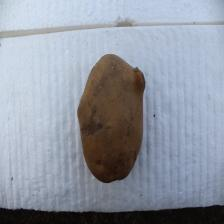Diseased-fungal potato: (76, 53, 147, 185)
